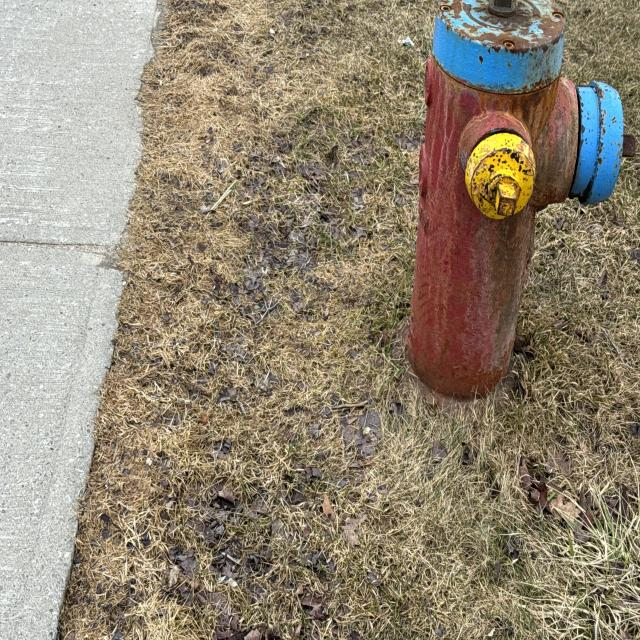Fire hydrant: (387, 0, 638, 432)
